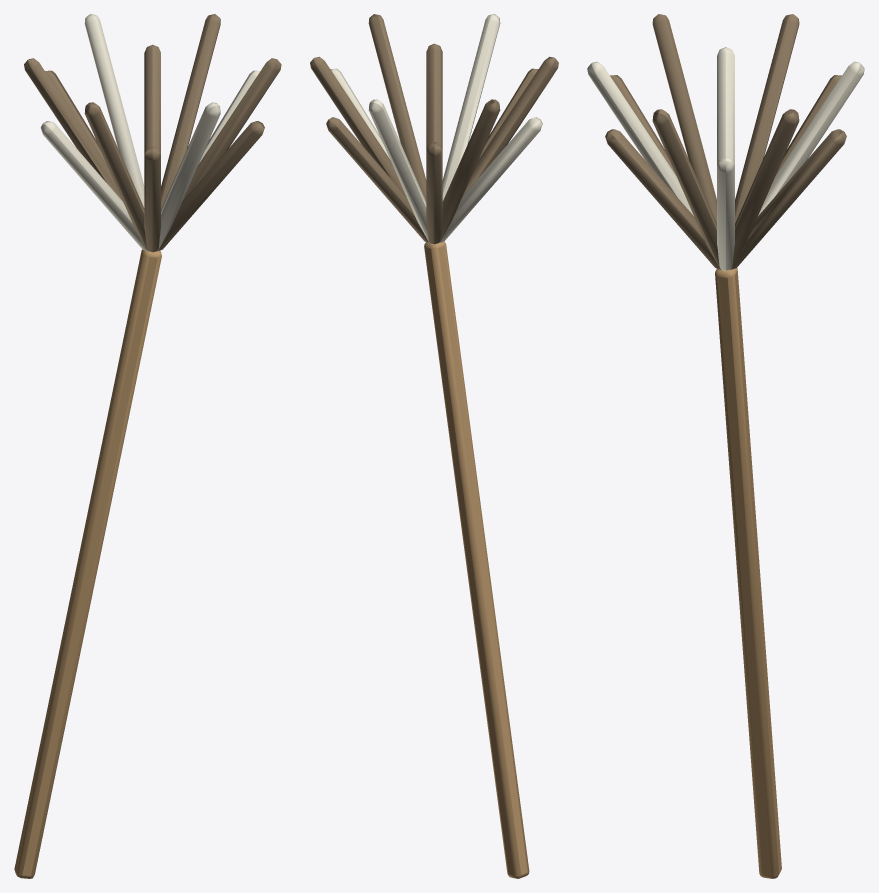
Rendered from CayChoiLongGa.glb.
The picture shows the model from 3 angles, left to right: view 1: azimuth 30°, elevation 25°; view 2: azimuth 150°, elevation 25°; view 3: azimuth 270°, elevation 25°; orthographic projection. The views are drawn at different scales.
Visible parts, largest first — view 1: CayChoiLongGa; view 2: CayChoiLongGa; view 3: CayChoiLongGa.
Boxes of the visible parts, x1=… form: CayChoiLongGa: x1=14, y1=14, x2=281, y2=878; CayChoiLongGa: x1=310, y1=14, x2=558, y2=878; CayChoiLongGa: x1=587, y1=14, x2=864, y2=878.
Size of the model in its own units: 0.1892 by 0.6413 by 0.1855.
